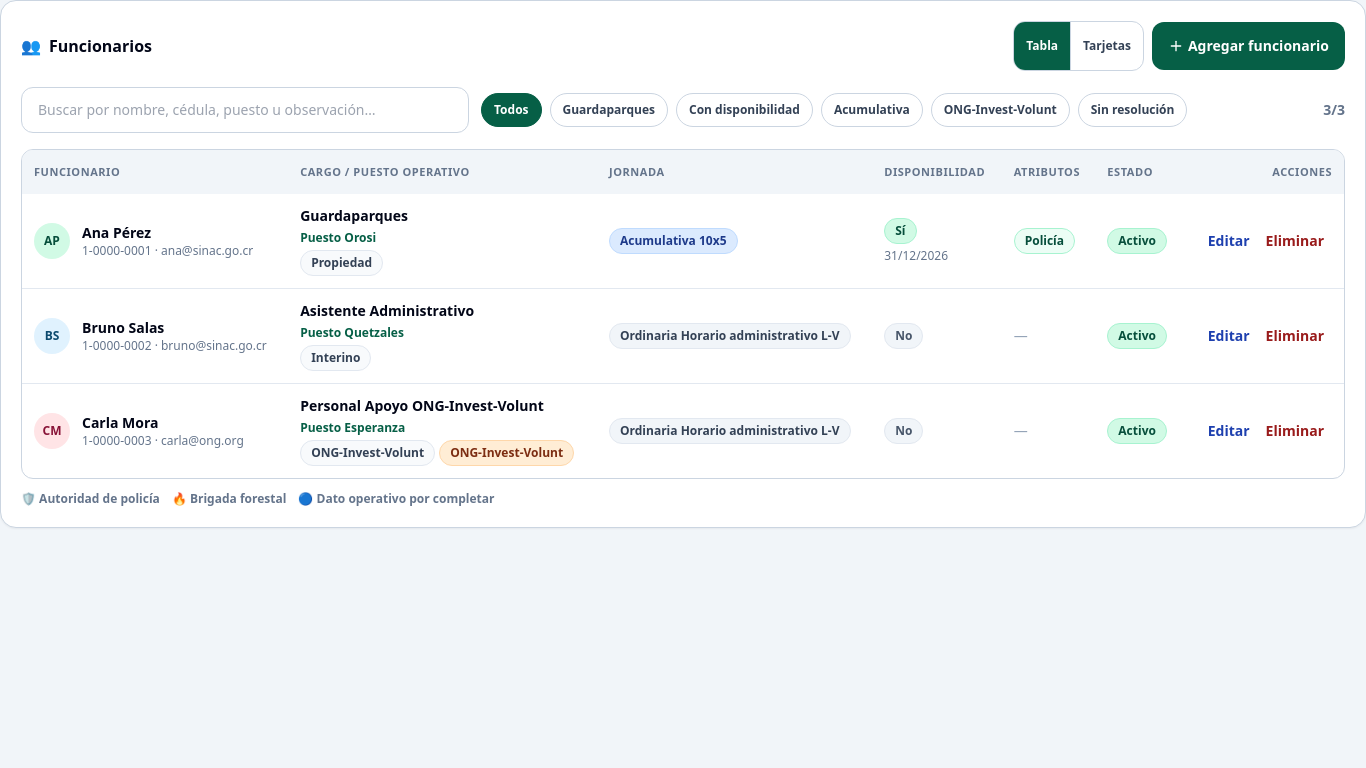
it: Funcionarios — filtros y búsqueda › filtro 'Guardaparques' deja solo a Ana
This screenshot has width=1366, height=768.
Click the button "Guardaparques" at {"x": 609, "y": 110}, box left=550, top=93, right=668, bottom=127
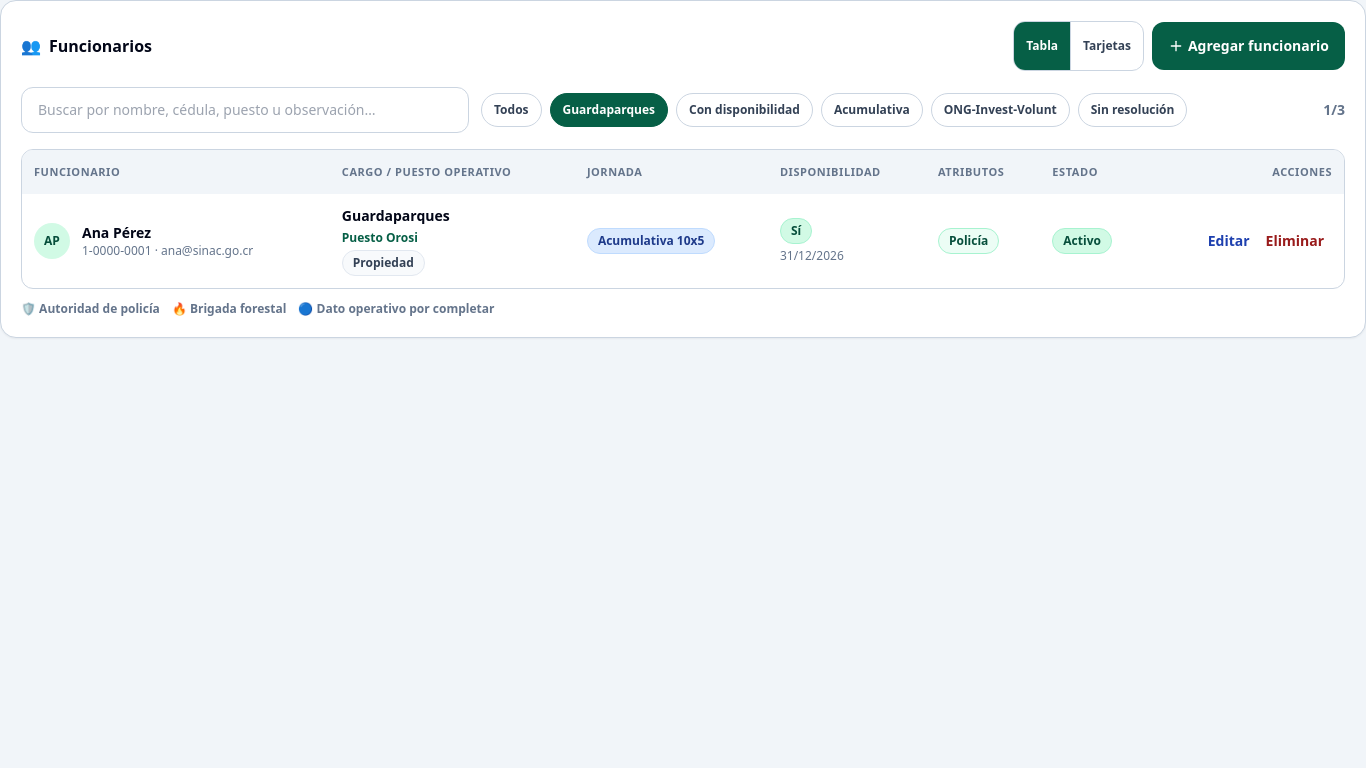
Check: the text "1/3" is shown, box left=1323, top=100, right=1345, bottom=120
Check: the text "Bruno Salas" is gone
Check: the text "Carla Mora" is gone
